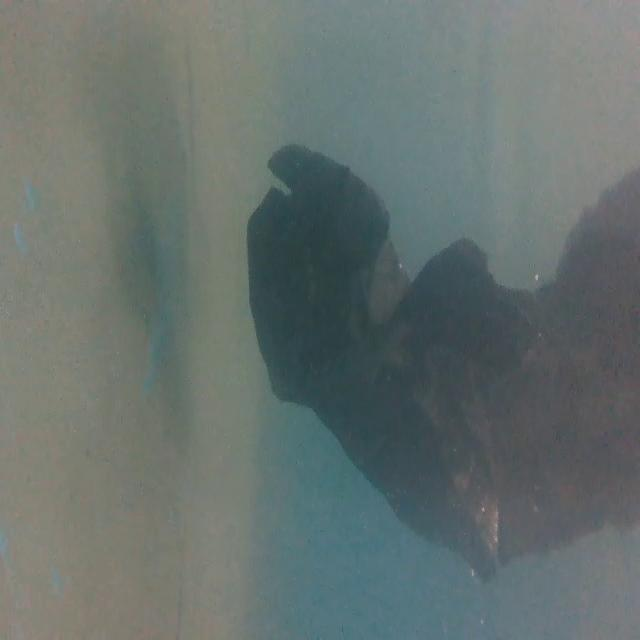plastic bags: (241, 129, 640, 592)
